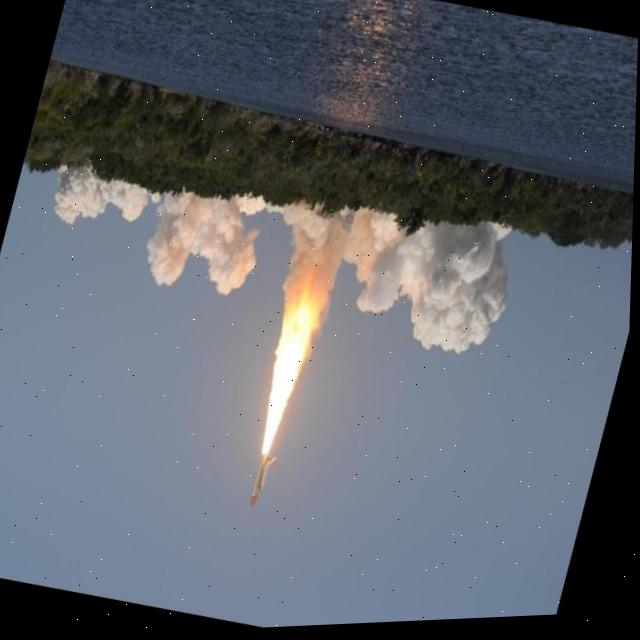missile: (242, 452, 284, 512)
